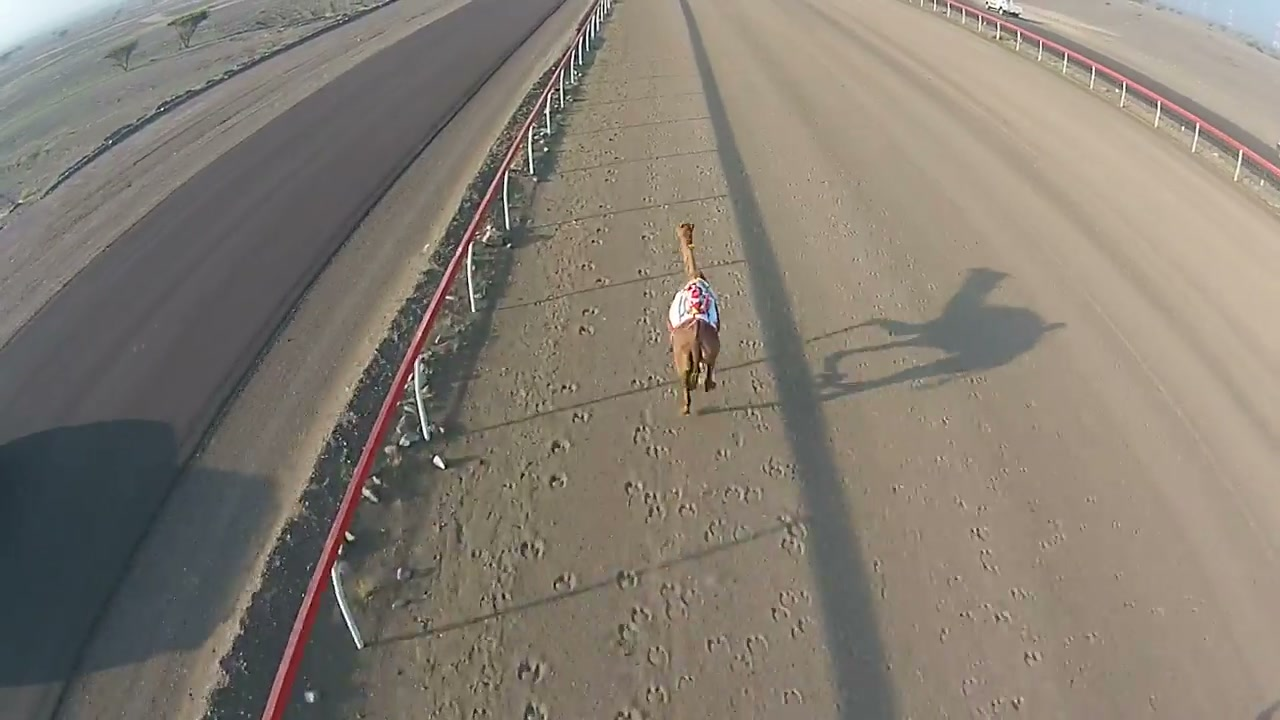animal_footprint: (473, 178, 622, 713), (608, 235, 728, 715)
